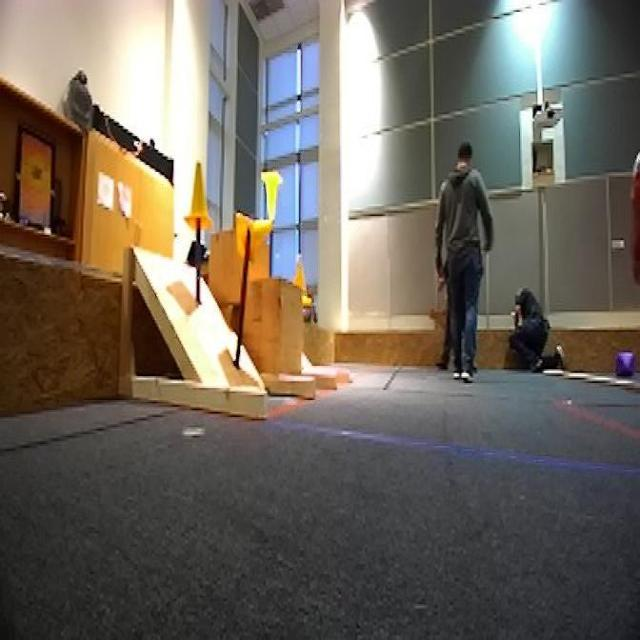frc_cone: (181, 156, 215, 232), (233, 213, 274, 269), (260, 168, 282, 224), (292, 256, 314, 312)
frc_cube: (615, 350, 636, 384)
